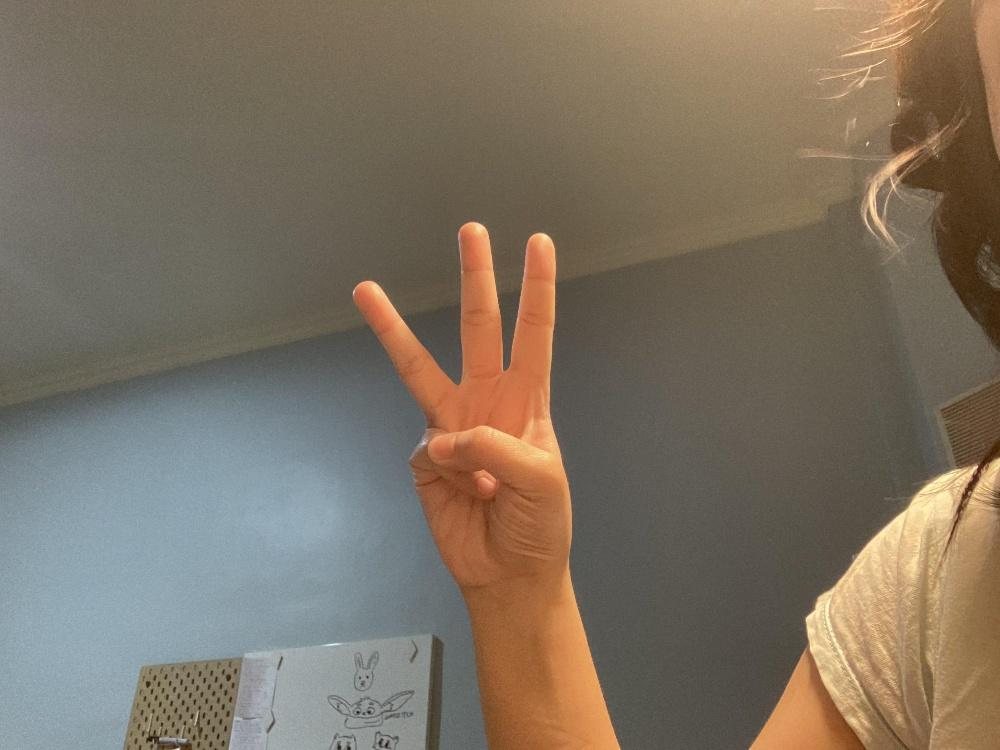w: (351, 219, 572, 586)
